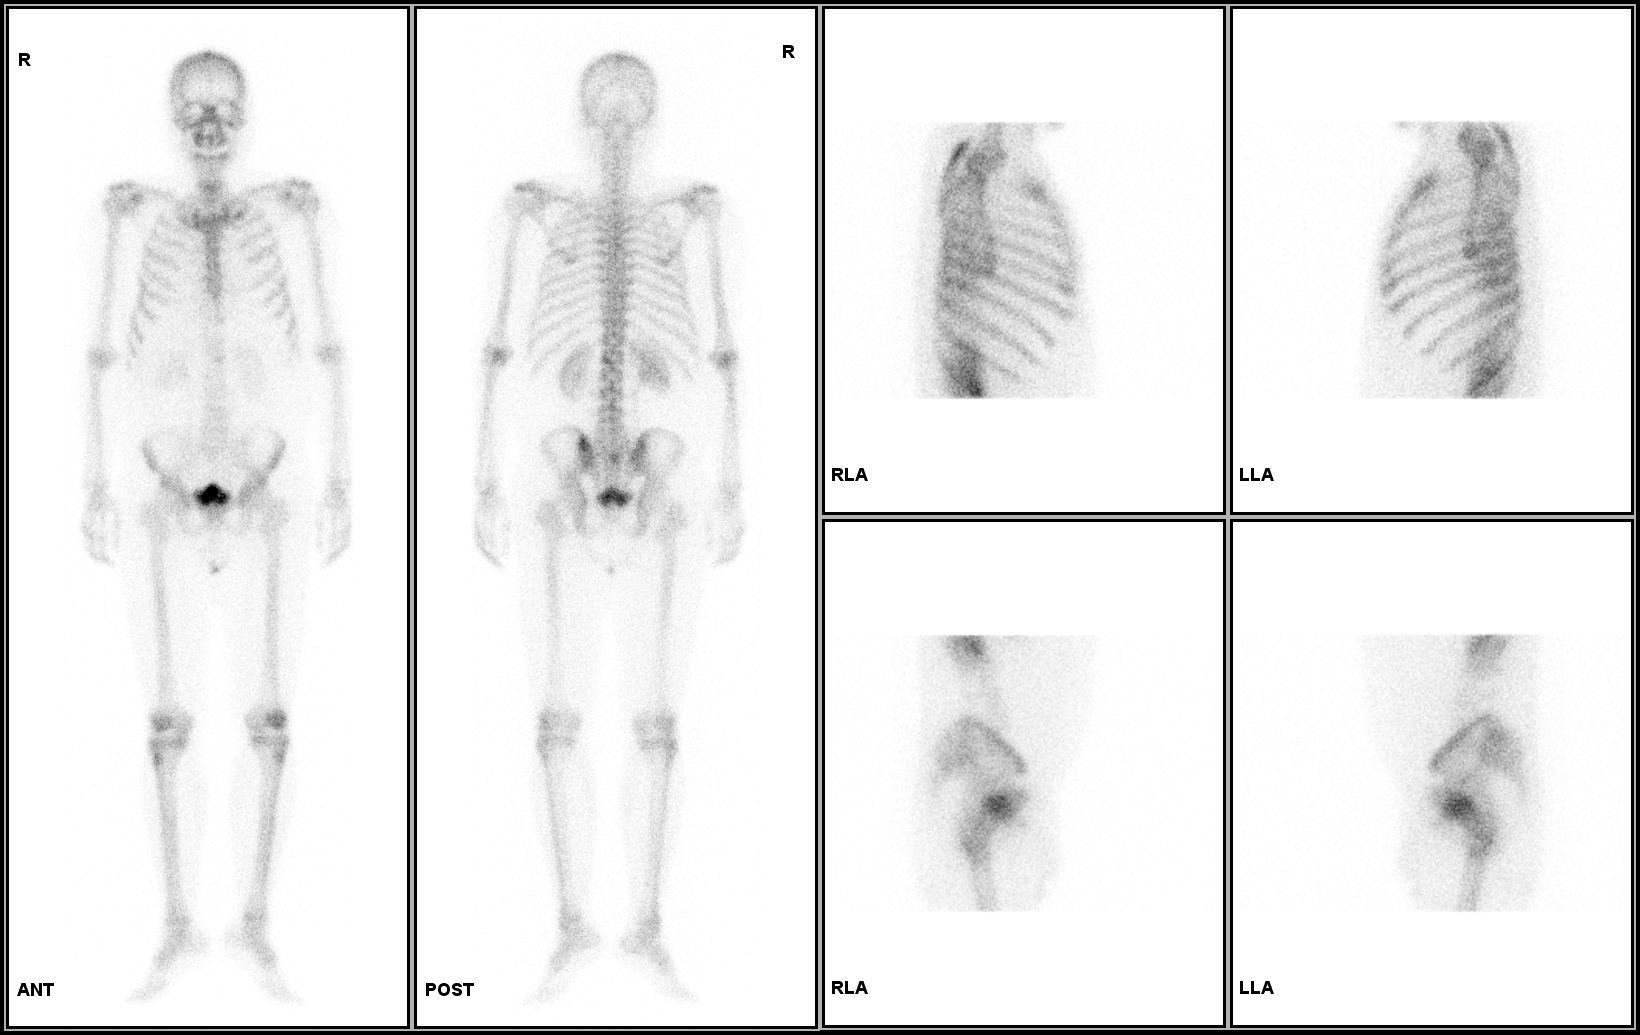person: (6, 8, 816, 1030)
